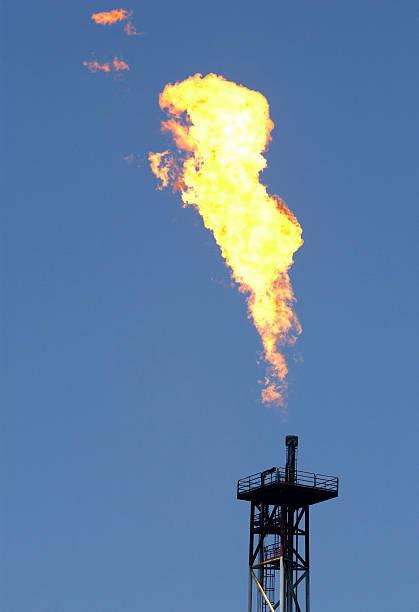Fire: (116, 65, 328, 399)
